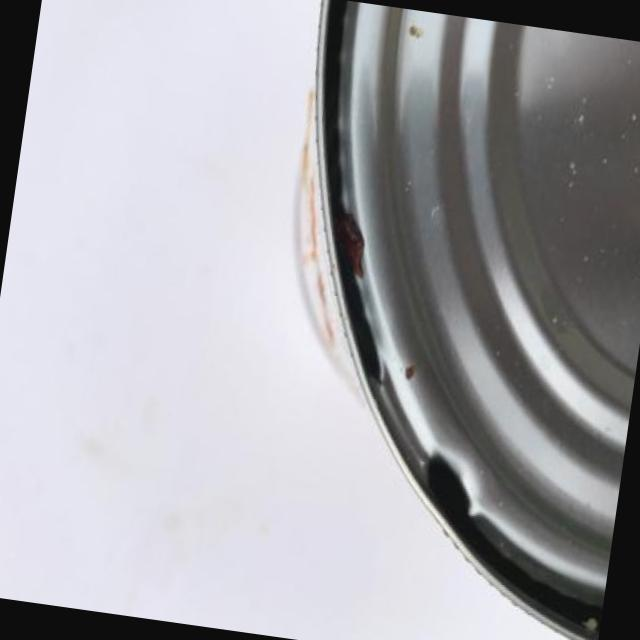kim_loai: (291, 0, 640, 640)
